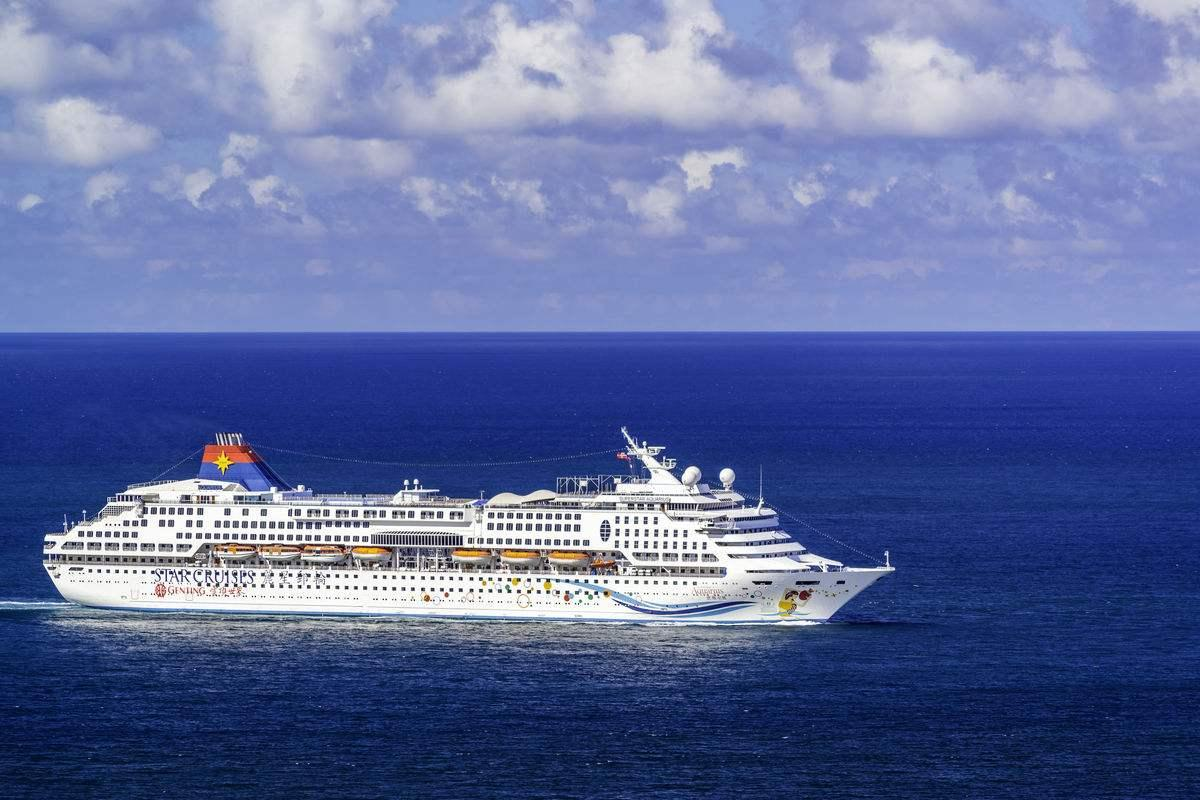youlun: (38, 427, 915, 630)
